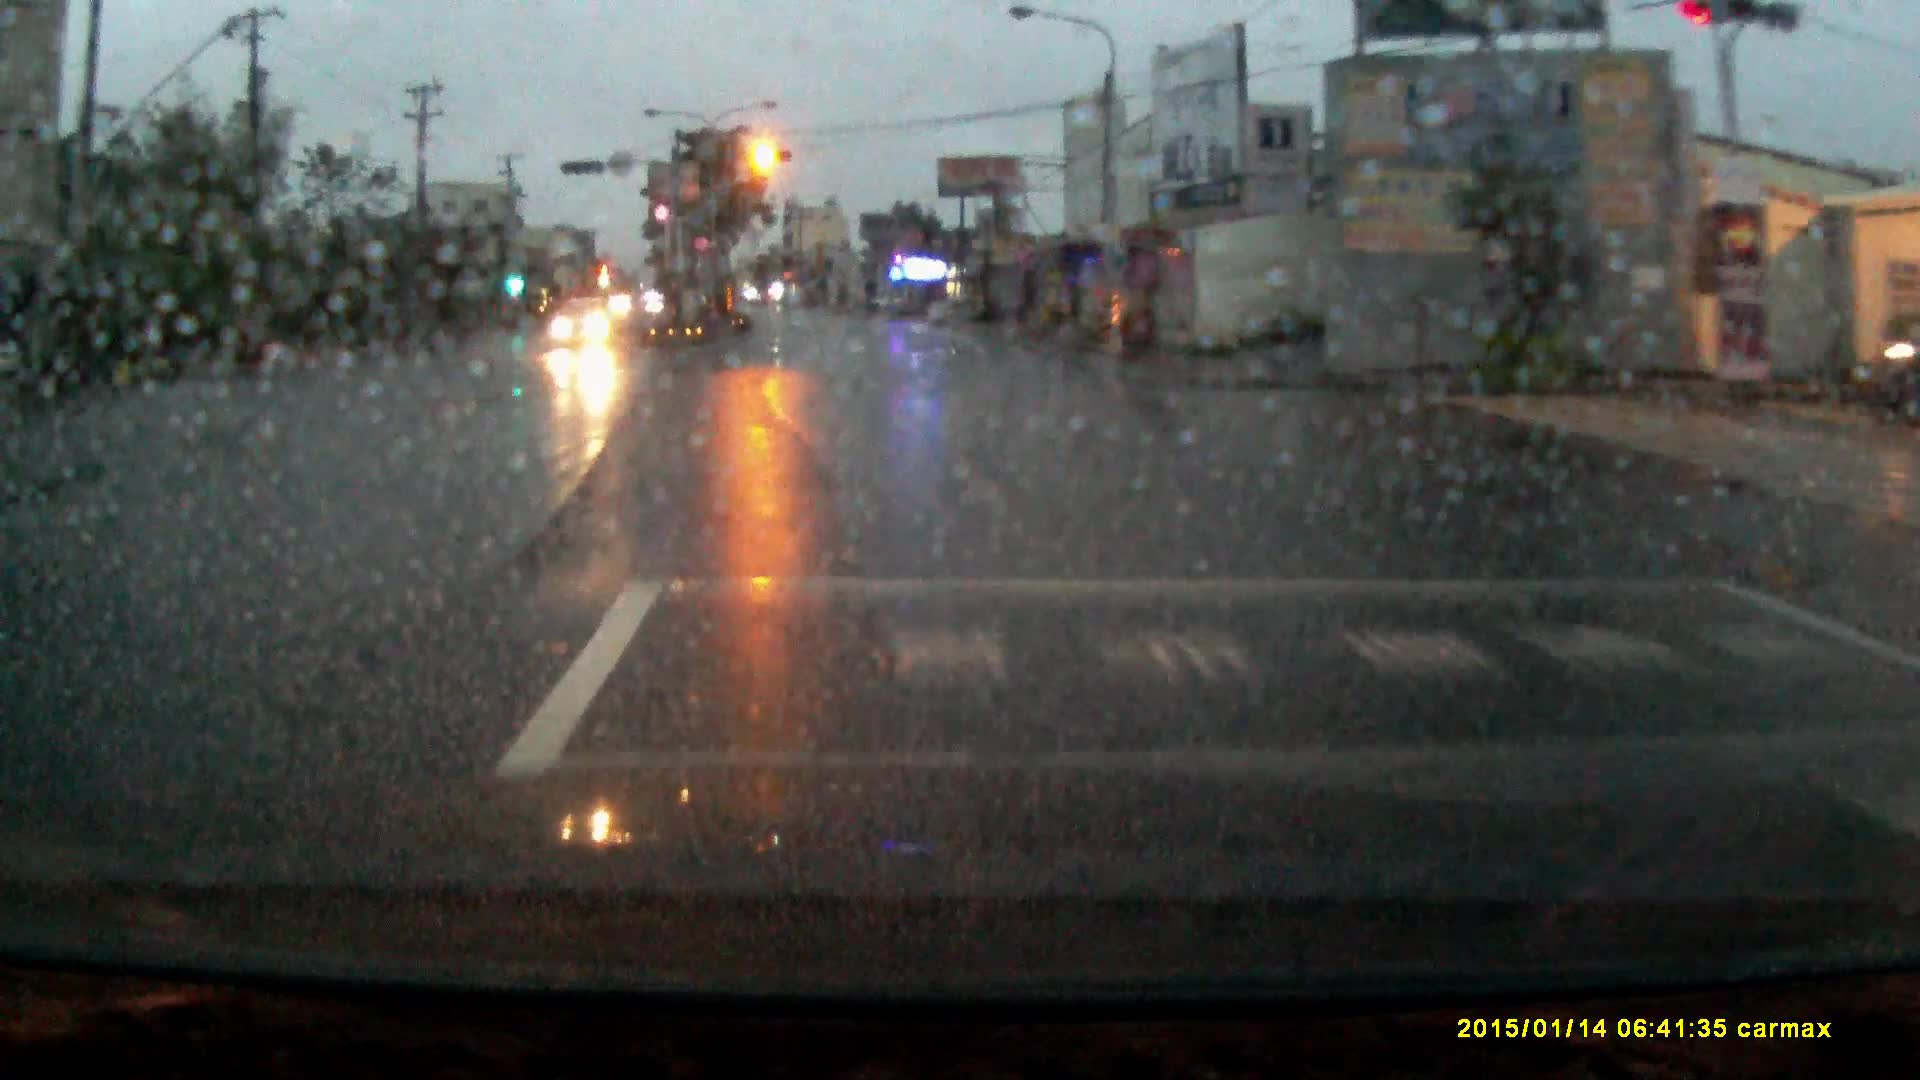rider: (1868, 294, 1920, 420)
vehicle: (548, 299, 618, 350)
